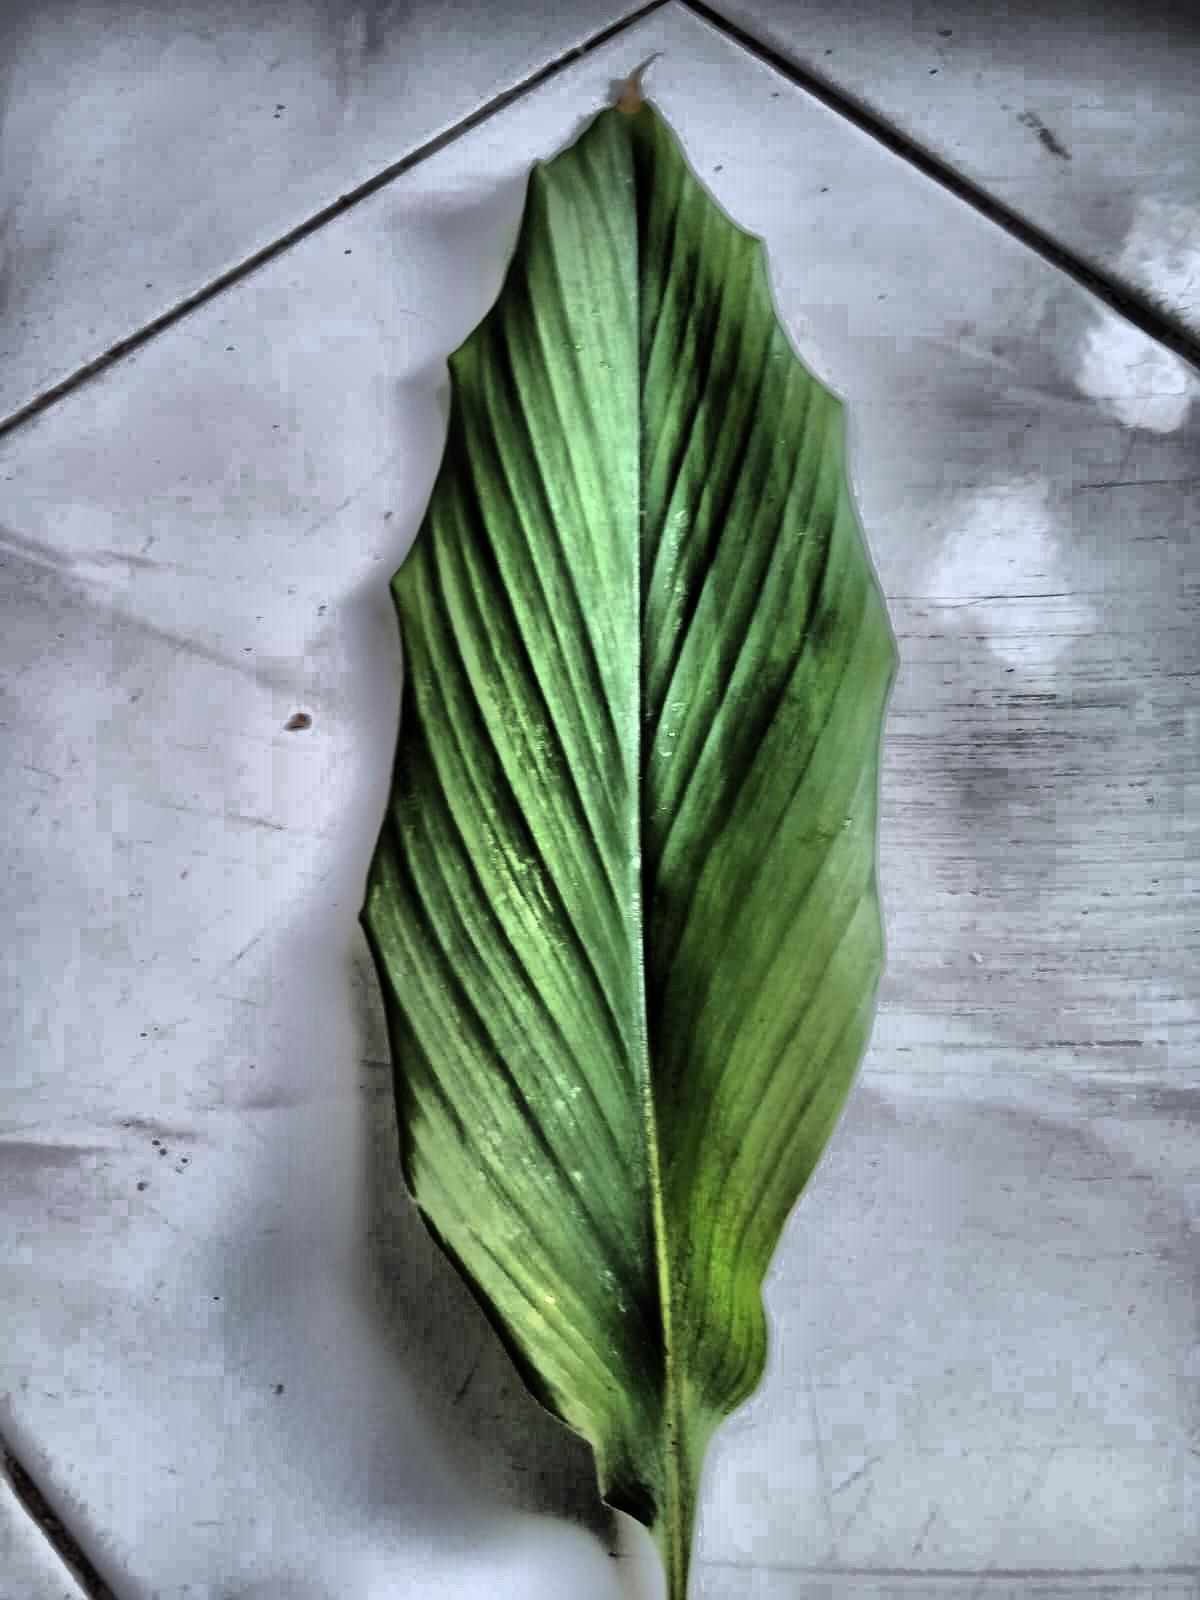daun kunyit: (363, 102, 894, 1599)
